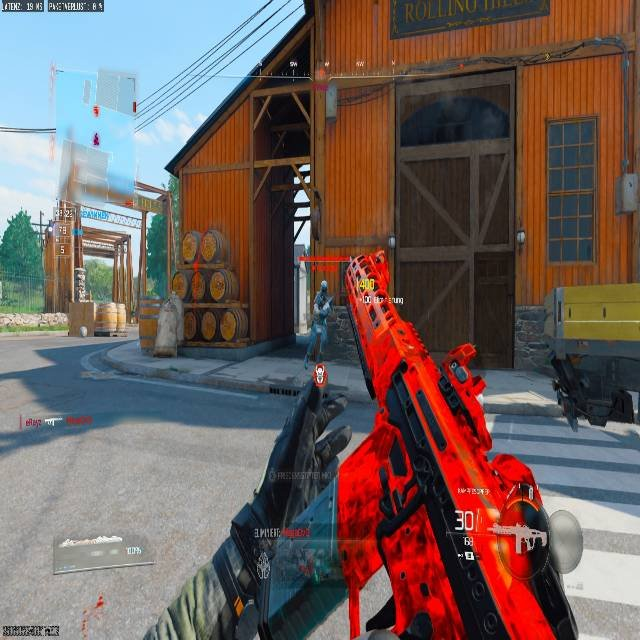head: (319, 280, 328, 292)
player: (305, 281, 333, 363), (315, 280, 332, 312)
